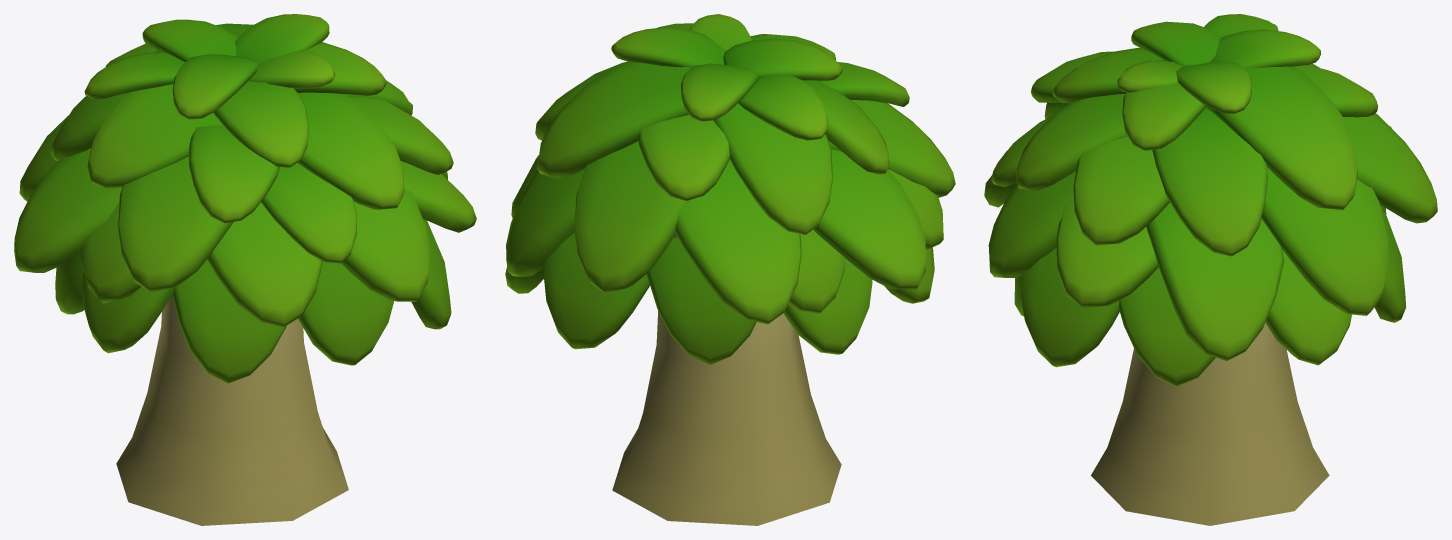
The model's file is Bigleaf_Tree_03.fbx.
The picture shows the model from 3 angles, left to right: view 1: azimuth 30°, elevation 25°; view 2: azimuth 150°, elevation 25°; view 3: azimuth 270°, elevation 25°; orthographic projection.
Visible parts, largest first — view 1: Bigleaf_Tree_03; view 2: Bigleaf_Tree_03; view 3: Bigleaf_Tree_03.
Part boxes in pixels (x1,y1,x2,y2): Bigleaf_Tree_03: [14, 14, 476, 525]; Bigleaf_Tree_03: [505, 14, 955, 525]; Bigleaf_Tree_03: [984, 14, 1437, 525].
Size of the model in its own units: 195 by 195 by 186.
